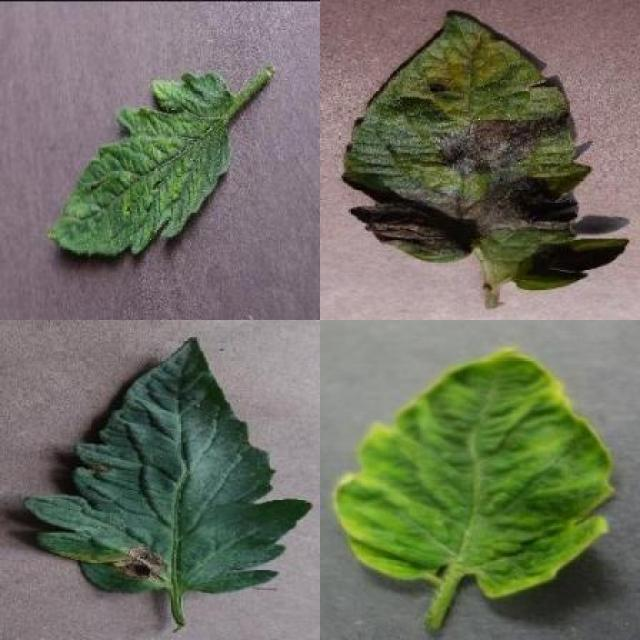Early Blight: (22, 337, 312, 597)
Late Blight: (340, 11, 630, 292)
Mosaic Virus: (40, 70, 234, 257)
Yellow Leaf Curl Virus: (334, 341, 616, 596)
